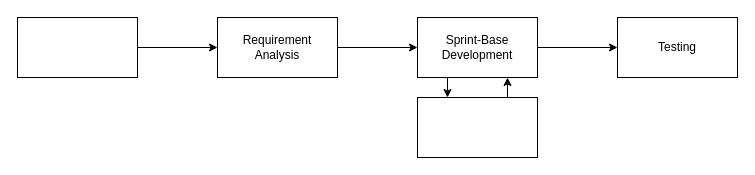
Image size: 755x175. Some labels were removed from this diagram. Here are the shapes that lost their labels. From the top down, the centre of each, then its label:
At point 77,47: "Project Planning".
At point 477,127: "Prototyping".
